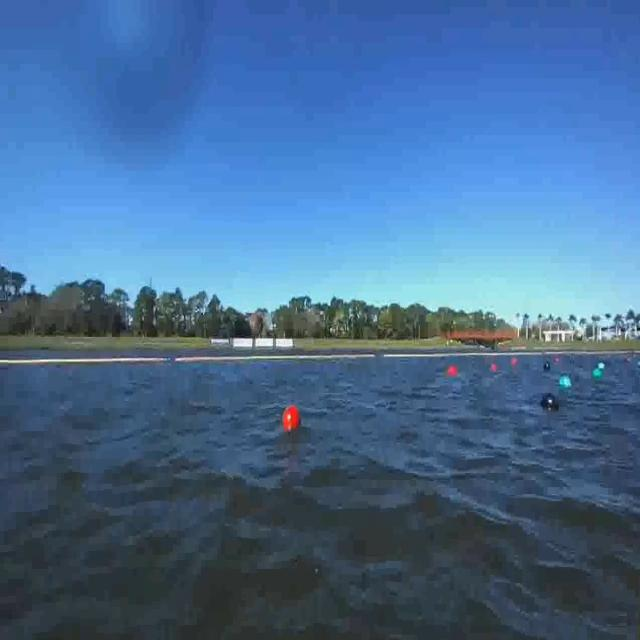black-buoy: (543, 396, 561, 412)
green-buoy: (560, 377, 571, 391), (591, 368, 601, 380)
red-buoy: (282, 405, 300, 433), (448, 365, 458, 376), (512, 356, 518, 366)
